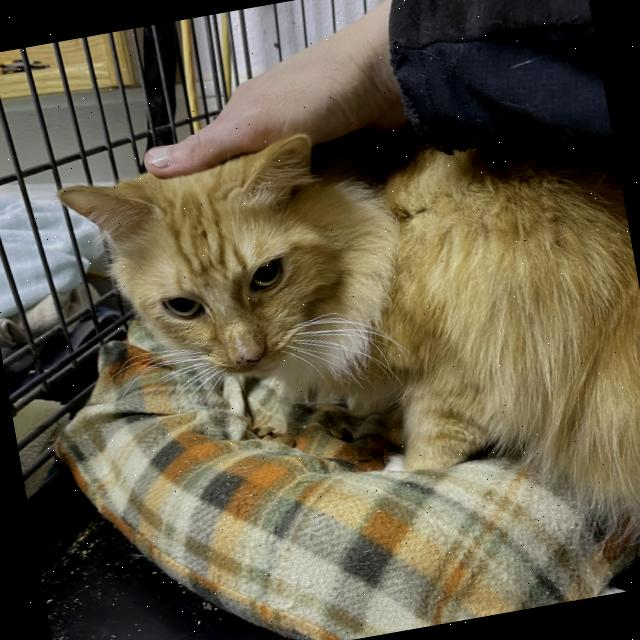domestic_long_hair_cat: (44, 120, 388, 441)
